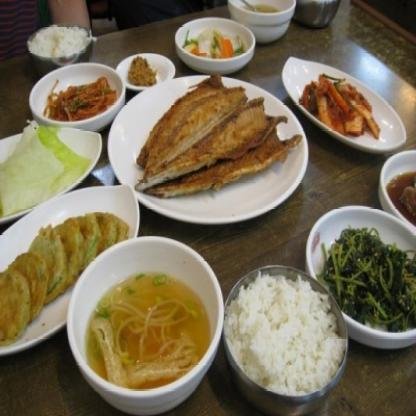Peixe: (127, 72, 309, 212)
